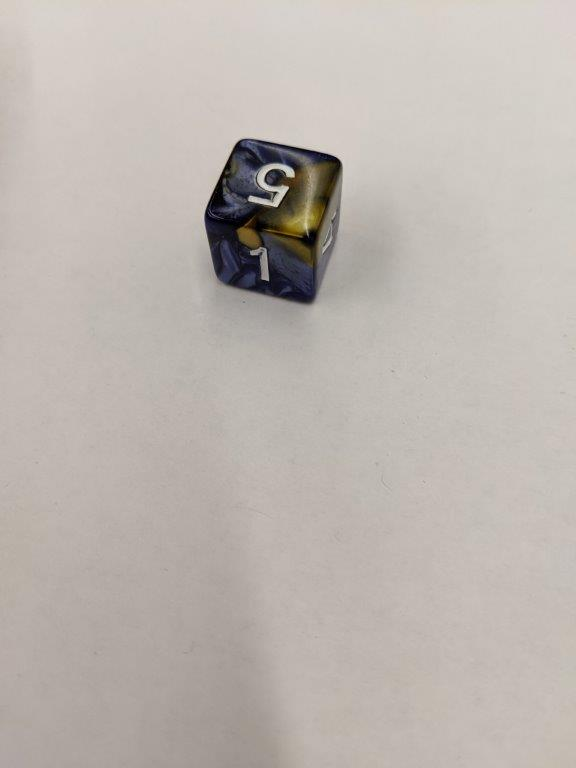d6-5: (203, 139, 343, 304)
